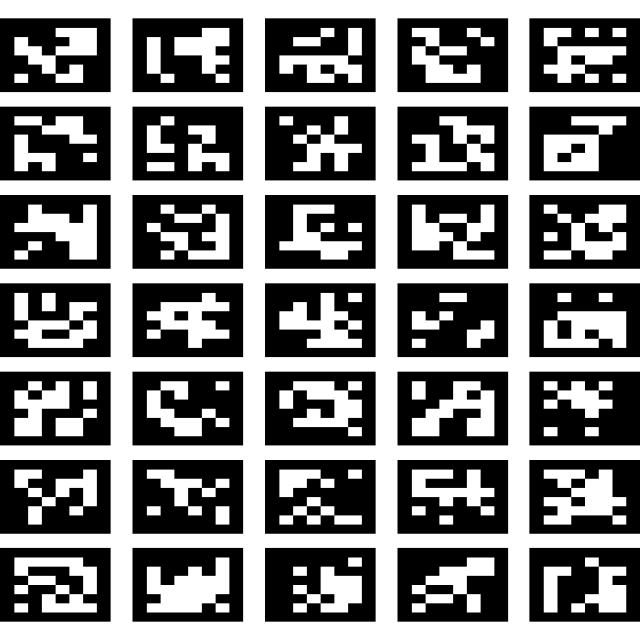aruco: (382, 453, 522, 545), (248, 276, 386, 368), (252, 532, 388, 623), (110, 546, 259, 628), (118, 275, 256, 363), (250, 453, 389, 540), (105, 370, 255, 450), (128, 453, 260, 543), (387, 184, 519, 272), (124, 187, 253, 277), (0, 365, 123, 458), (0, 547, 122, 640), (251, 190, 386, 274), (254, 96, 388, 179), (388, 98, 514, 186), (517, 277, 640, 366), (519, 188, 640, 278), (390, 532, 511, 622), (516, 537, 640, 624), (0, 106, 117, 198), (515, 454, 640, 540), (517, 12, 640, 98), (518, 365, 640, 451), (396, 362, 520, 446), (389, 277, 516, 359), (123, 96, 247, 178), (0, 191, 122, 274), (0, 453, 120, 535), (260, 360, 381, 440), (0, 278, 120, 358), (394, 18, 509, 94), (528, 102, 638, 180), (266, 15, 375, 91), (132, 15, 242, 90), (0, 18, 108, 92)
